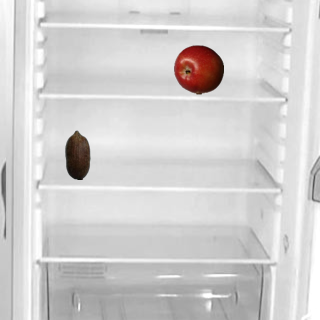Apple Braeburn: (173, 44, 223, 94)
Nut Pecan: (52, 129, 102, 179)
